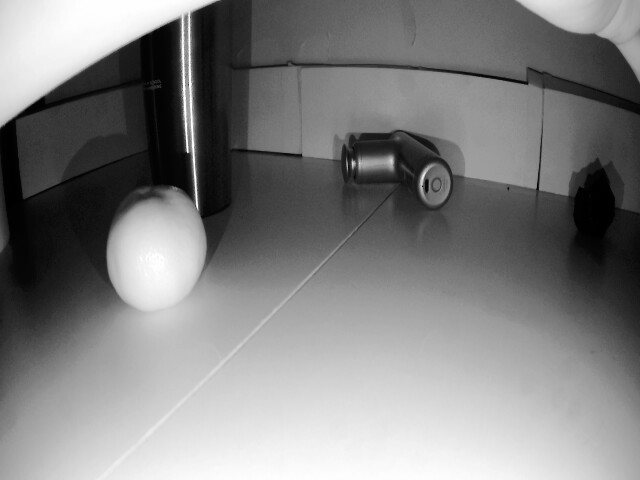silver: (568, 170, 617, 236)
